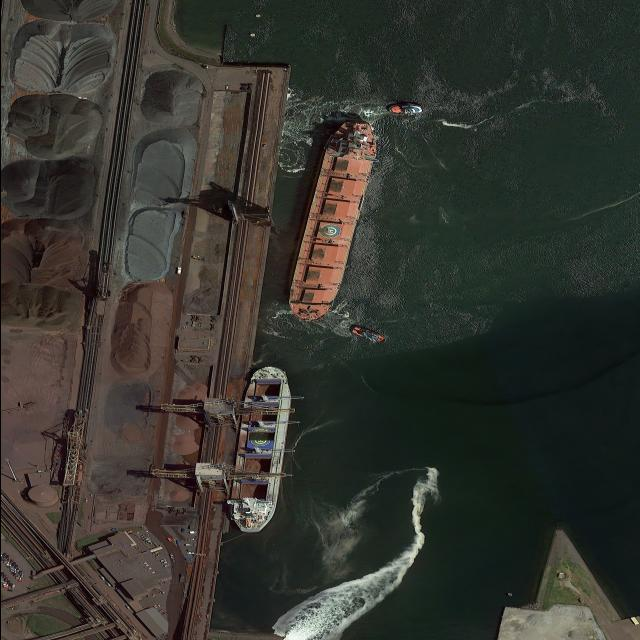ship: (284, 120, 381, 322), (226, 365, 294, 533), (348, 326, 386, 344), (386, 102, 426, 116)
